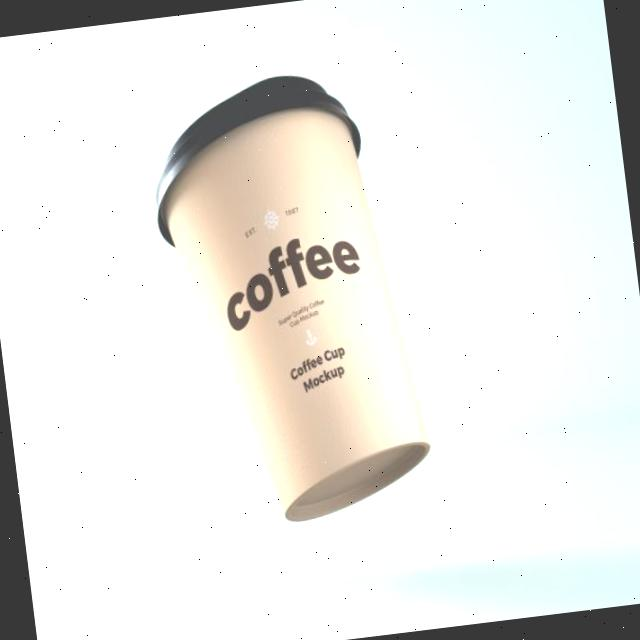trash: (139, 61, 441, 536)
